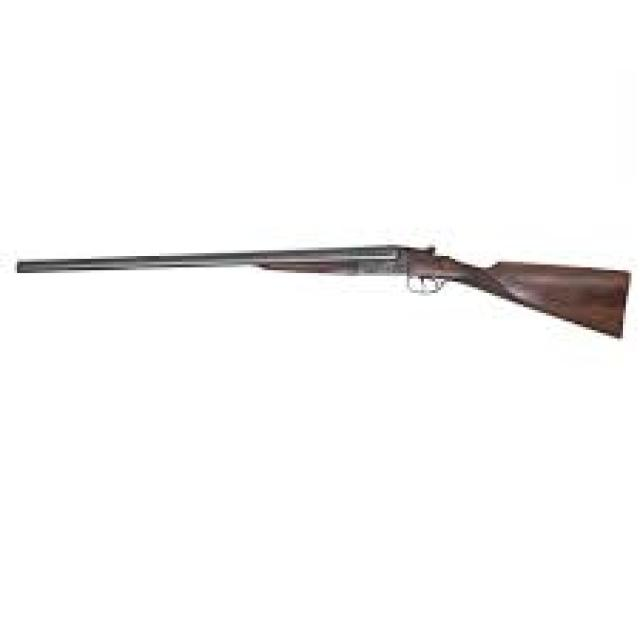rifle: (15, 243, 632, 344)
